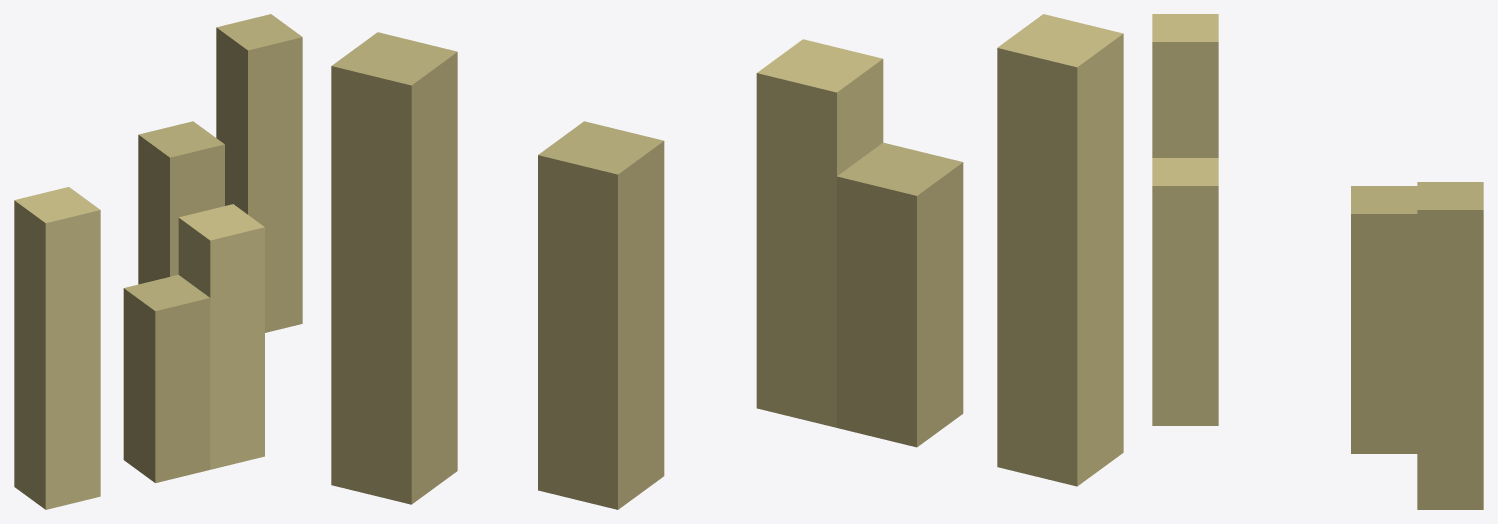
Rendered from cebada_silvestre_02.glb.
3 views of the same model, side by side, from view 1: azimuth 30°, elevation 25°; view 2: azimuth 150°, elevation 25°; view 3: azimuth 270°, elevation 25° (orthographic). The views are drawn at different scales.
Parts seen in each view (by area): view 1: cebada_silvestre_02; view 2: cebada_silvestre_02; view 3: cebada_silvestre_02.
Part boxes in pixels (box(x1,y1,x2,y2)): cebada_silvestre_02: box(14, 14, 302, 509); cebada_silvestre_02: box(331, 14, 1123, 509); cebada_silvestre_02: box(1152, 14, 1483, 509).
Bounding box in the file's own units: 0.7 × 0.5 × 0.5.
